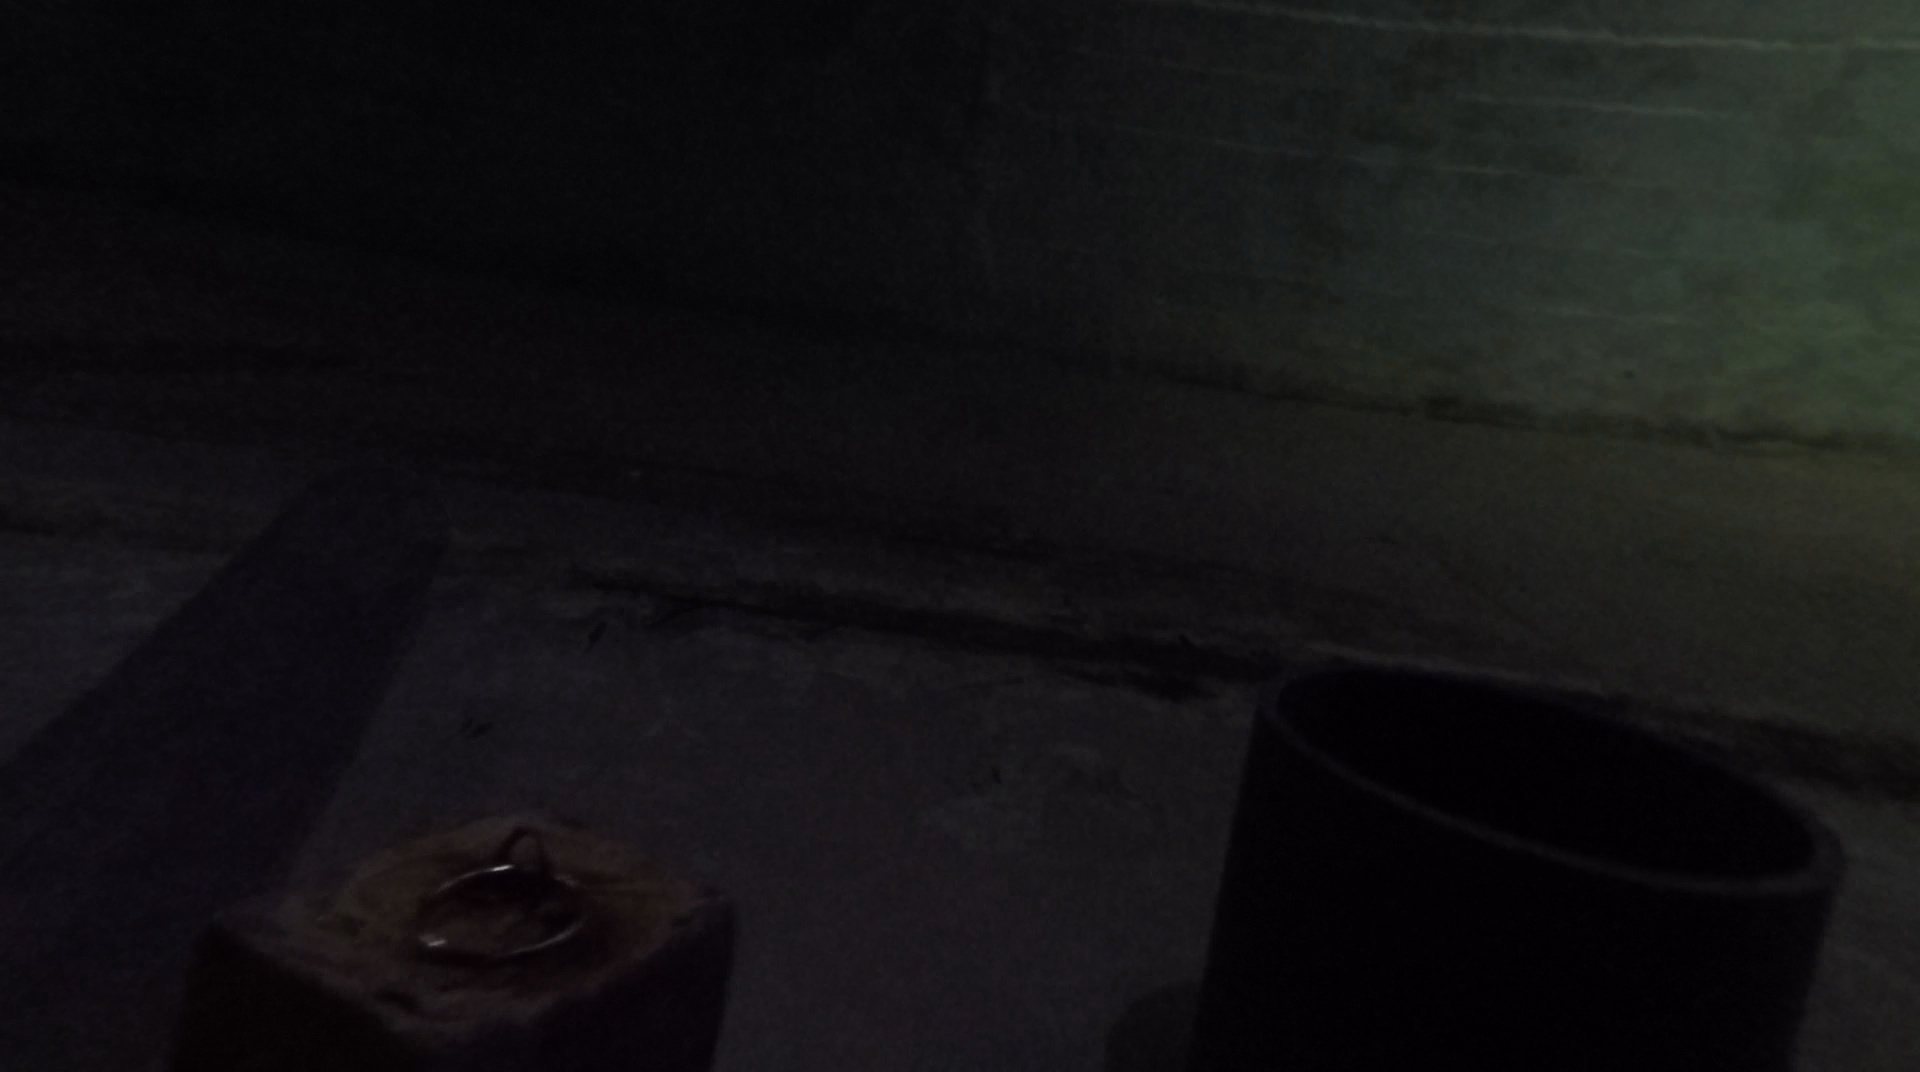led_block: (193, 810, 736, 1072)
pipe: (1182, 658, 1845, 1069), (5, 464, 451, 1072)
